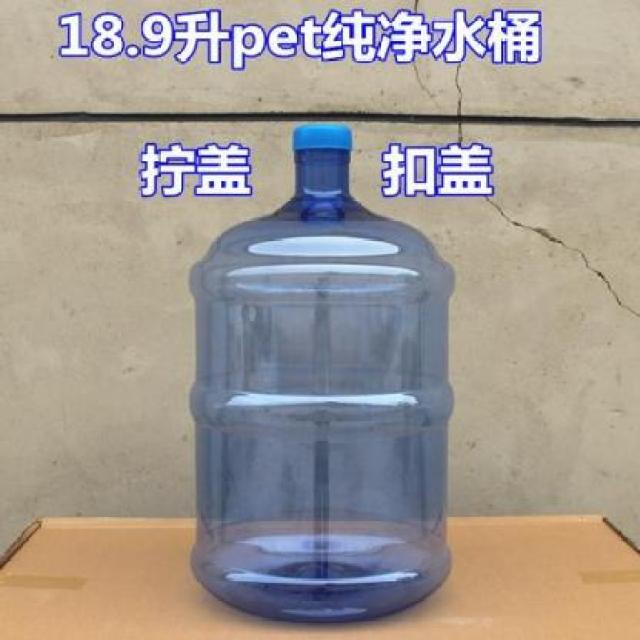coolerbottle: (183, 120, 460, 631)
